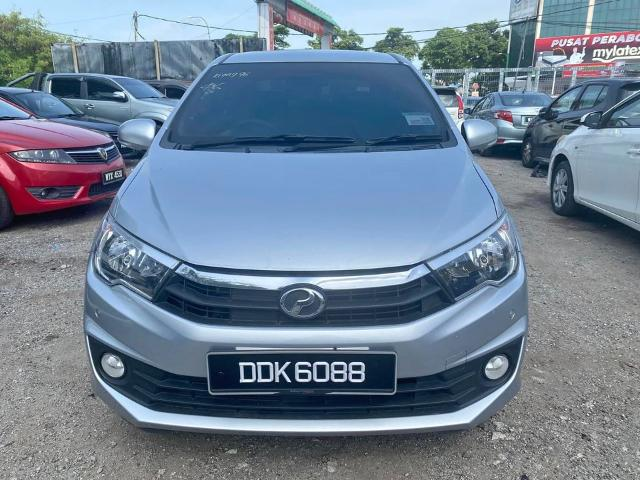License_Plate: (220, 356, 381, 394)
car: (70, 37, 534, 445)
